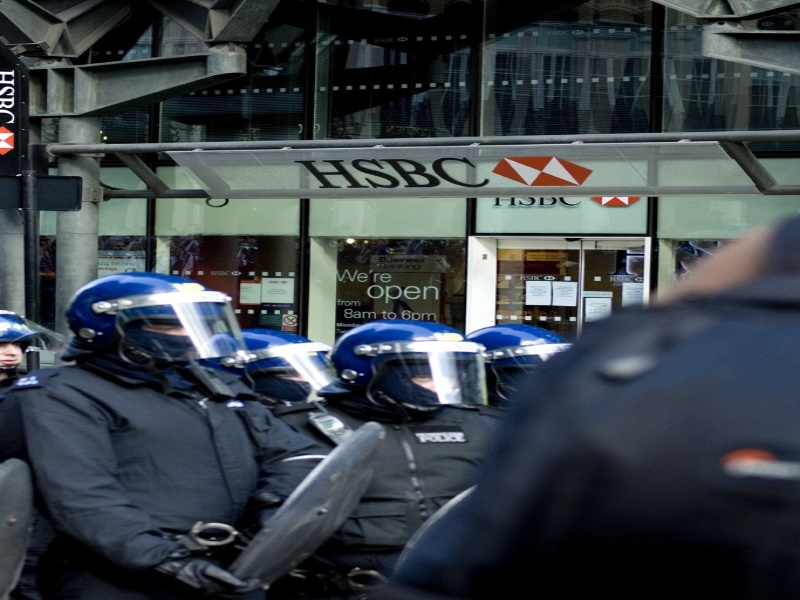Baret: (67, 270, 227, 330), (329, 320, 476, 382)
